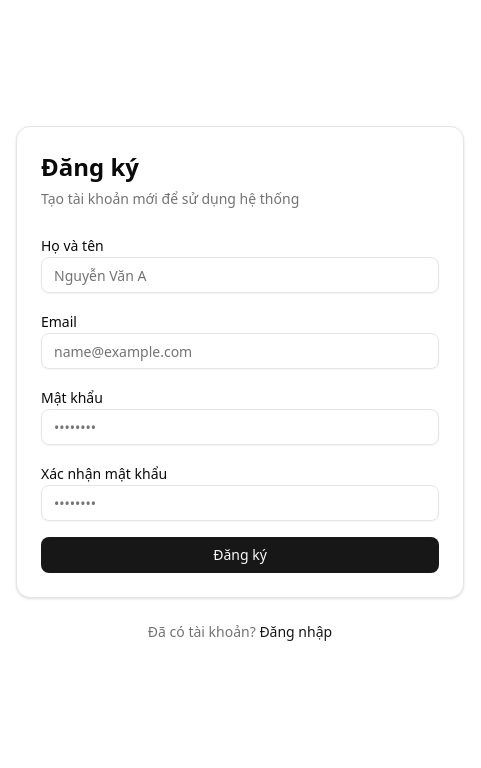
Test: Register /register route integration › keeps RegisterForm mounted during submit and shows the success + verification panel after resolve
The image size is (481, 768).
Expected: the text "Tạo tài khoản mới để sử dụng hệ thống" is shown, [41,189,299,208]
Type "Phạm Hùng Thiên" into the field labelled "Họ và tên".
click(240, 275); type("Phạm Hùng Thiên")  # box [41,257,439,293]
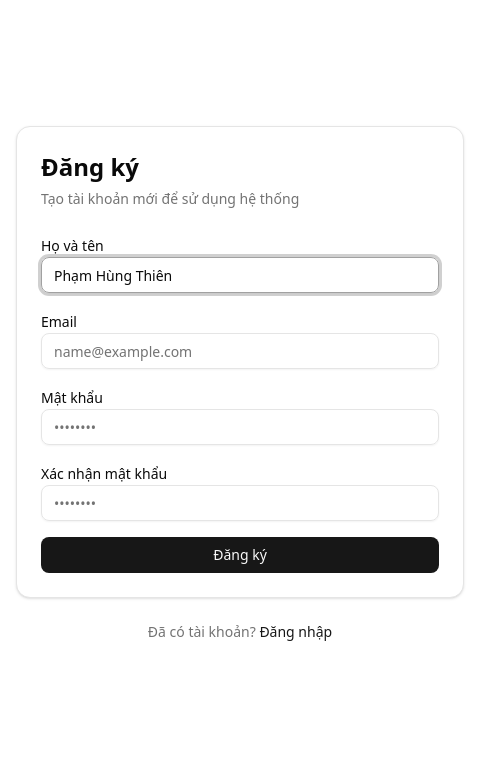
Type "thienhungpham5@gmail.com" into the field labelled "Email".
click(240, 351); type("thienhungpham5@gmail.com")  # box [41,333,439,369]
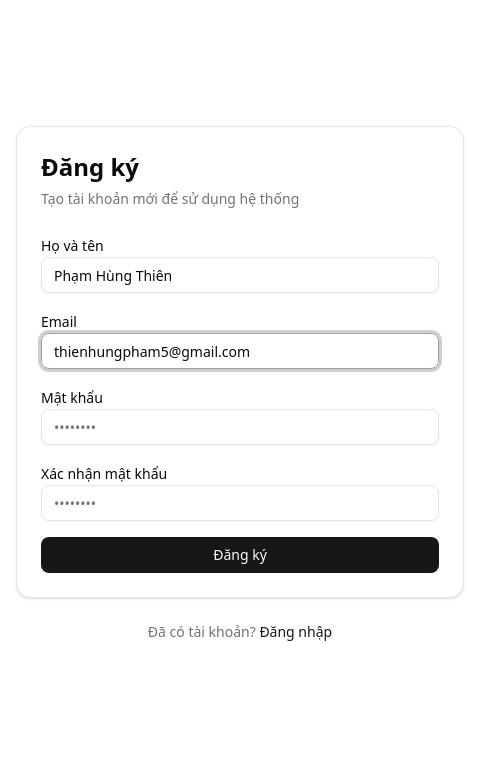
Type "password123" into the password field labelled "Mật khẩu".
click(240, 427); type("password123")  # box [41,409,439,445]
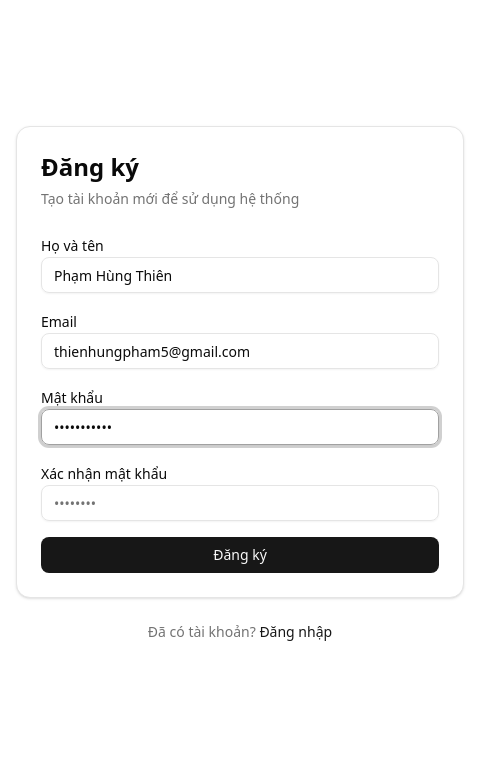
Type "password123" into the password field labelled "Xác nhận mật khẩu".
click(240, 503); type("password123")  # box [41,485,439,521]
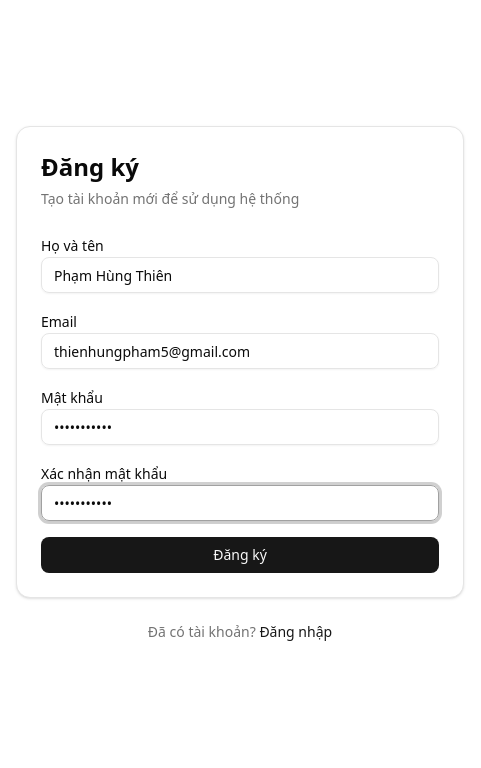
Click the button "Đăng ký".
click(240, 555)  # box [41,537,439,573]
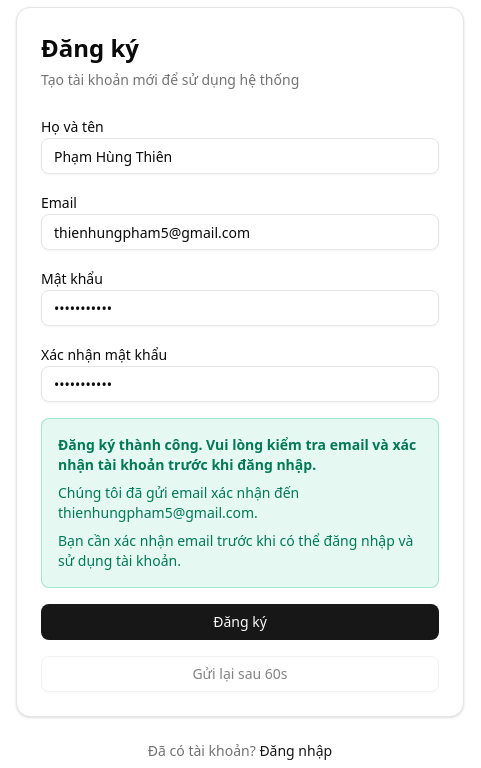
Result: the message with test id "register-success" shows "Đăng ký thành công" at [58,435,416,474]
Result: the message with test id "register-success" shows "Chúng tôi đã gửi email xác nhận đến" at [58,483,299,502]
Result: the message with test id "register-success" shows "thienhungpham5@gmail.com" at [58,503,254,522]
